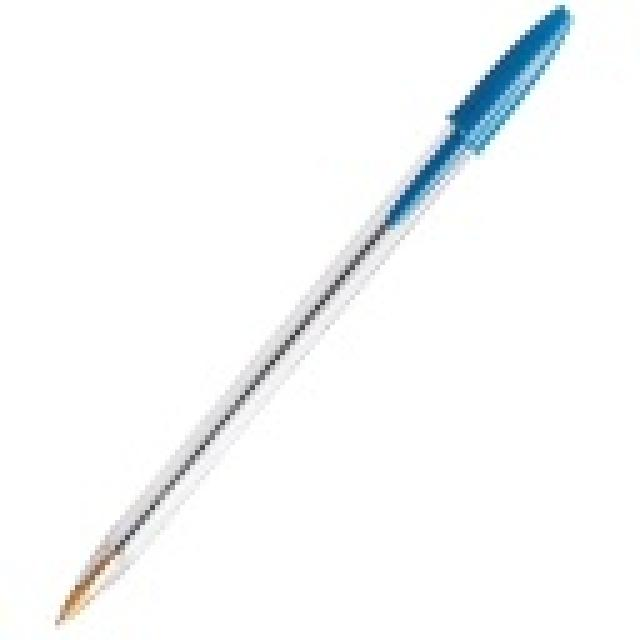pen: (46, 4, 588, 634)
